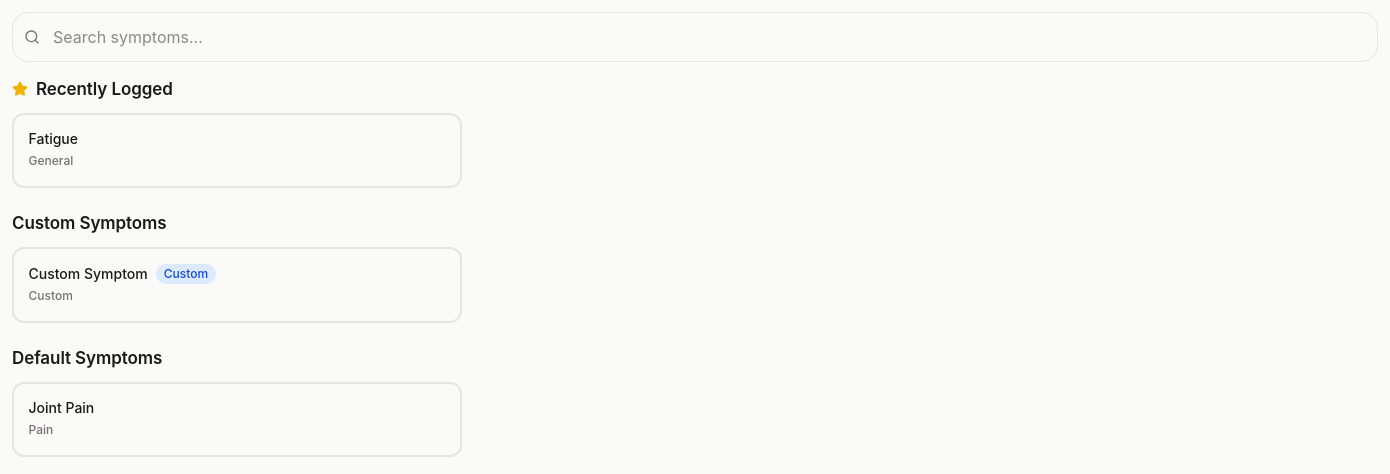
Test case: SymptomSelectionList › AC3.5.3.7 - Full-page symptom selection › filters symptoms by name when searching
The image size is (1390, 474).
Type "fatigue" into the field with placeholder "Search symptoms...".
click(695, 37); type("fatigue")  # box 12,12 -> 1378,62
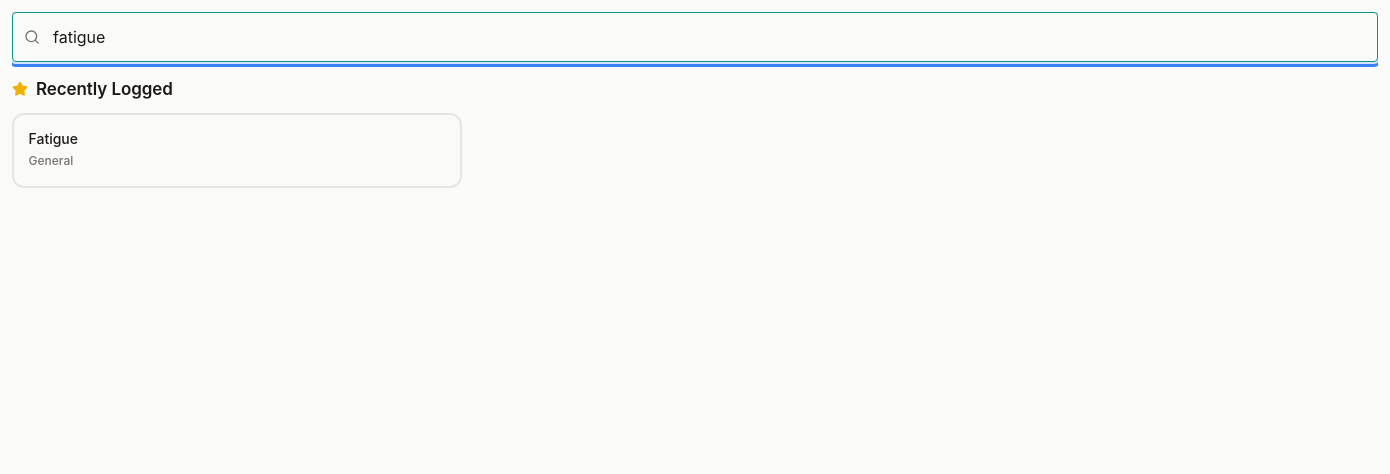
Check: the text "Fatigue" is shown, box 28,129 -> 78,149
Check: the button "Joint Pain" is gone
